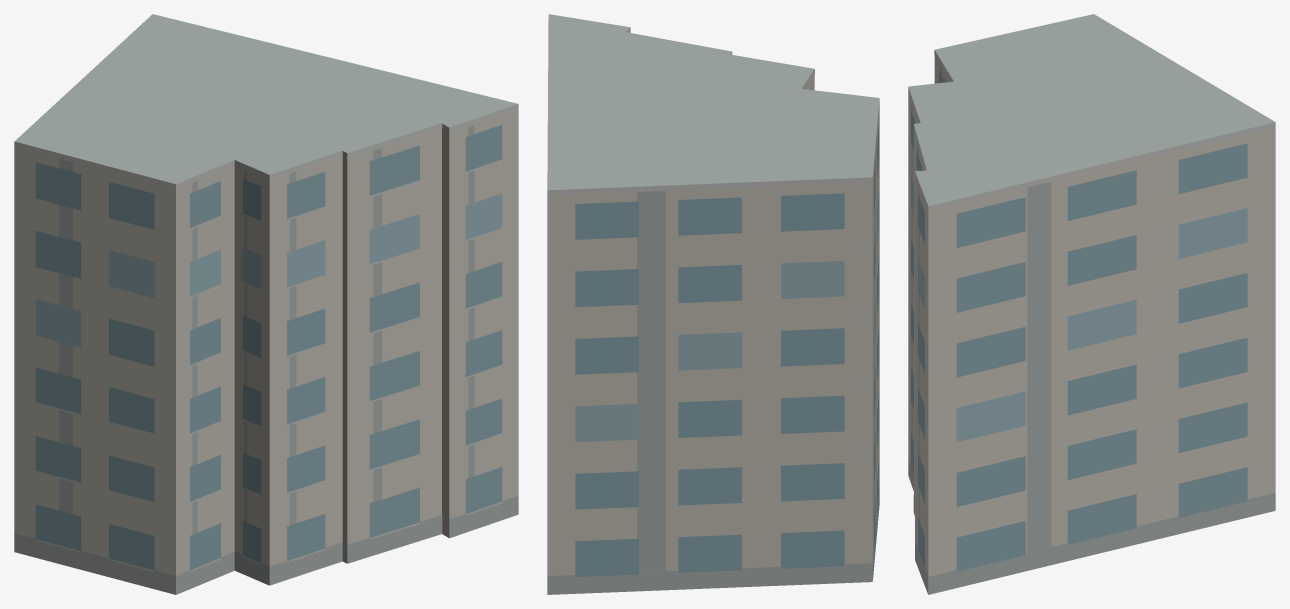
The model's file is survey-upis-32811980.glb.
3 views of the same model, side by side, from view 1: azimuth 30°, elevation 25°; view 2: azimuth 150°, elevation 25°; view 3: azimuth 270°, elevation 25° (orthographic). The views are drawn at different scales.
Parts seen in each view (by area): view 1: survey-upis-32811980.tmp; view 2: survey-upis-32811980.tmp; view 3: survey-upis-32811980.tmp.
Part boxes in pixels (bbox=[...]): survey-upis-32811980.tmp: bbox=[14, 14, 518, 594]; survey-upis-32811980.tmp: bbox=[547, 14, 879, 594]; survey-upis-32811980.tmp: bbox=[908, 14, 1275, 594].
Bounding box in the file's own units: 19.44 × 18.3 × 15.69.
